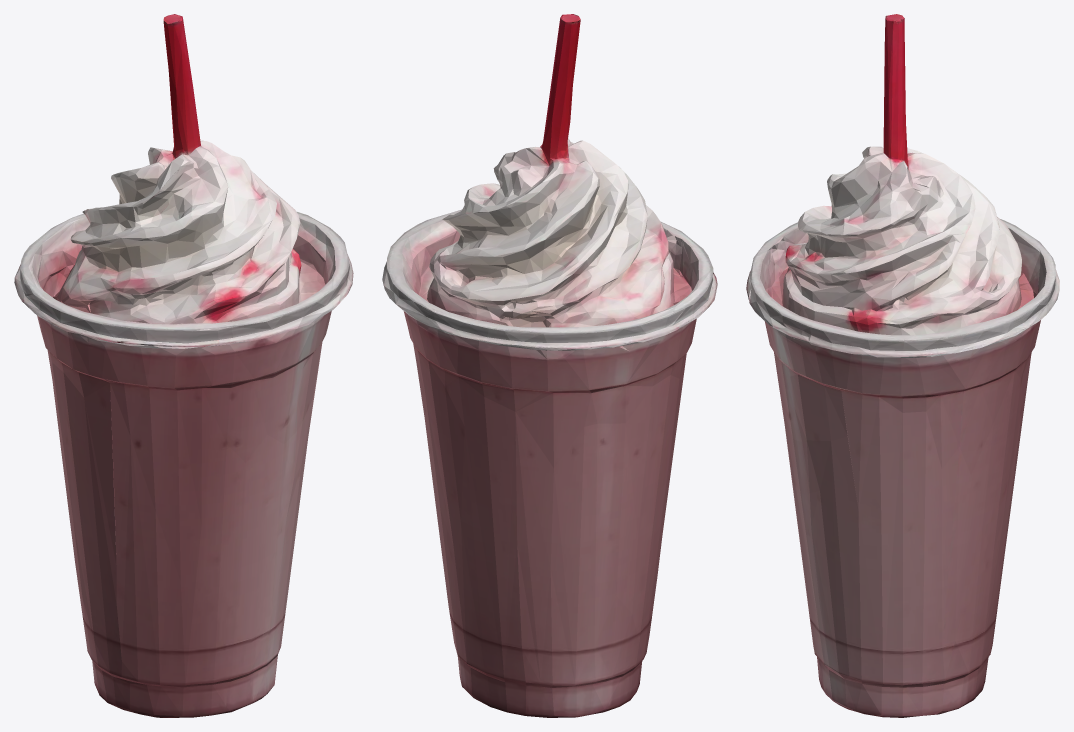
The picture shows the model from 3 angles, left to right: view 1: azimuth 30°, elevation 25°; view 2: azimuth 150°, elevation 25°; view 3: azimuth 270°, elevation 25°; orthographic projection. The views are drawn at different scales.
Parts seen in each view (by area): view 1: geometry_0; view 2: geometry_0; view 3: geometry_0.
Part boxes in pixels (x1,y1,x2,y2): geometry_0: (14, 14, 353, 717); geometry_0: (382, 14, 717, 717); geometry_0: (746, 14, 1059, 717).
Bounding box in the file's own units: 0.4638 × 0.999 × 0.4317.
Materials: 1 (1 with a texture image).
